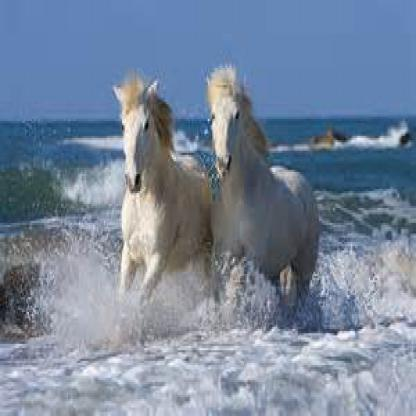horse: (206, 68, 320, 295), (112, 76, 212, 293)
